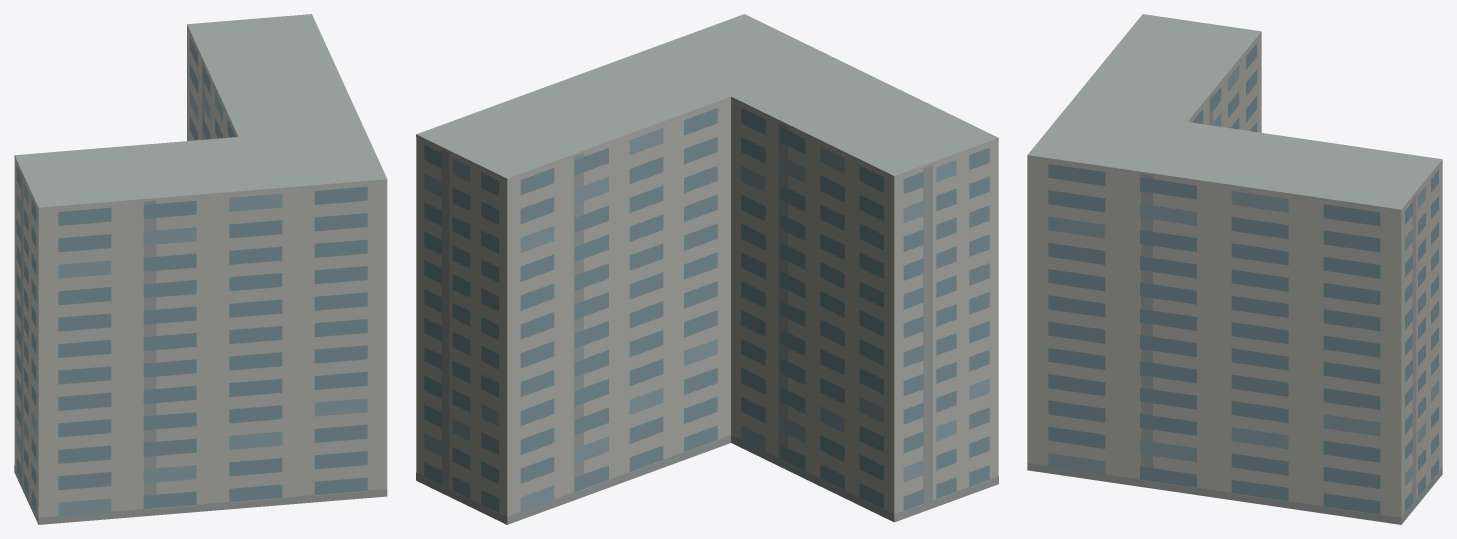
File: residential-3210a771-d0bd-4343-85c0-d1fe7f970536.glb
3 renders of one model, left to right at view 1: azimuth 30°, elevation 25°; view 2: azimuth 150°, elevation 25°; view 3: azimuth 270°, elevation 25°, orthographic. The views are drawn at different scales.
Parts seen in each view (by area): view 1: residential-3210a771-d0bd-4343-85c0-d1fe7f970536.tmp; view 2: residential-3210a771-d0bd-4343-85c0-d1fe7f970536.tmp; view 3: residential-3210a771-d0bd-4343-85c0-d1fe7f970536.tmp.
Part boxes in pixels (box(x1,y1,x2,y2)): residential-3210a771-d0bd-4343-85c0-d1fe7f970536.tmp: box(14, 14, 387, 524); residential-3210a771-d0bd-4343-85c0-d1fe7f970536.tmp: box(416, 14, 998, 524); residential-3210a771-d0bd-4343-85c0-d1fe7f970536.tmp: box(1027, 14, 1442, 524).
Size of the model in its own units: 43.94 by 33 by 39.4.
